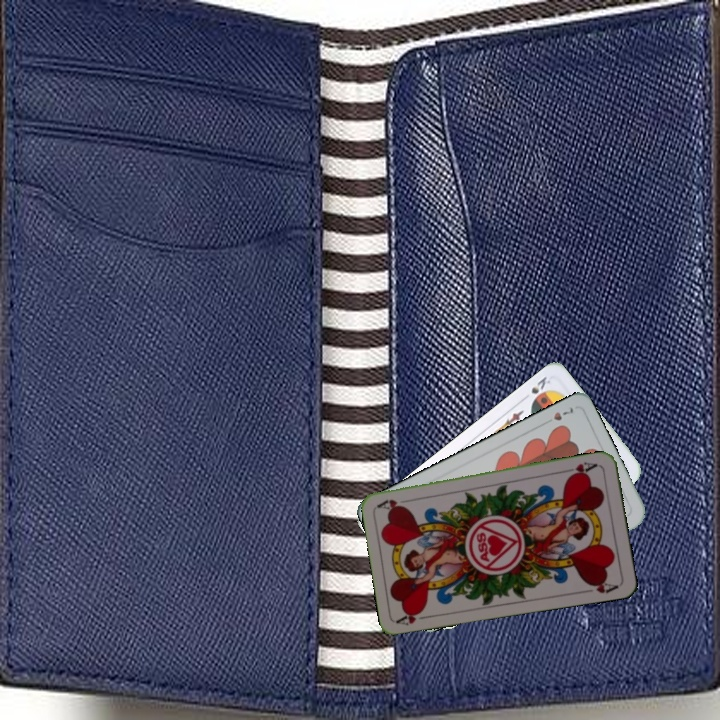H7: (540, 403, 576, 427)
HA: (394, 606, 435, 628), (561, 458, 600, 480)
SK: (526, 372, 553, 406)
